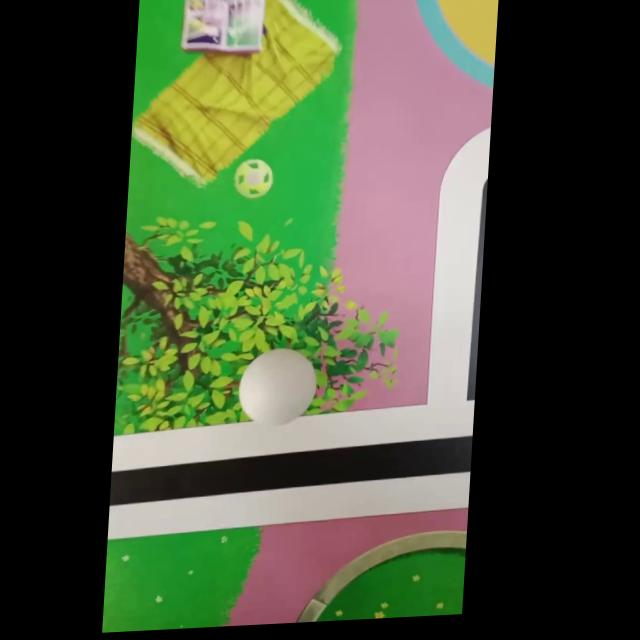white ball: (235, 345, 319, 427)
